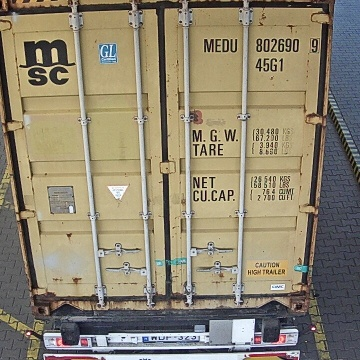serial_id: (203, 38, 319, 53)
